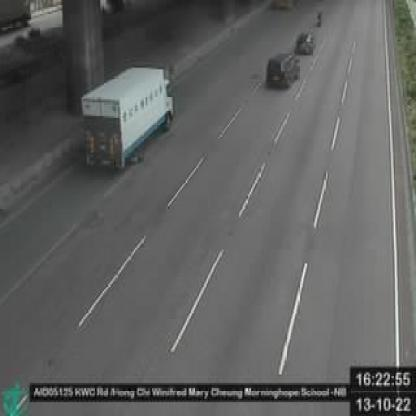Car: (265, 52, 299, 89), (294, 30, 316, 54)
Truck: (81, 59, 174, 179)
